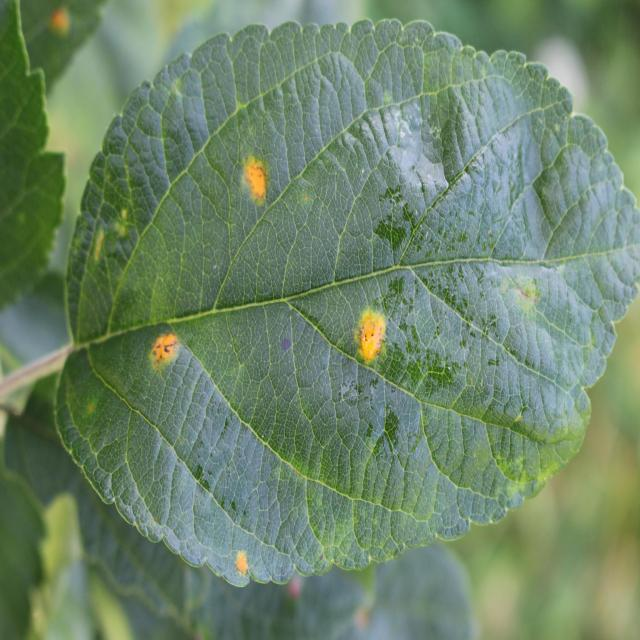Rust: (134, 300, 186, 382), (224, 147, 280, 219), (347, 299, 393, 380), (234, 549, 253, 581)
